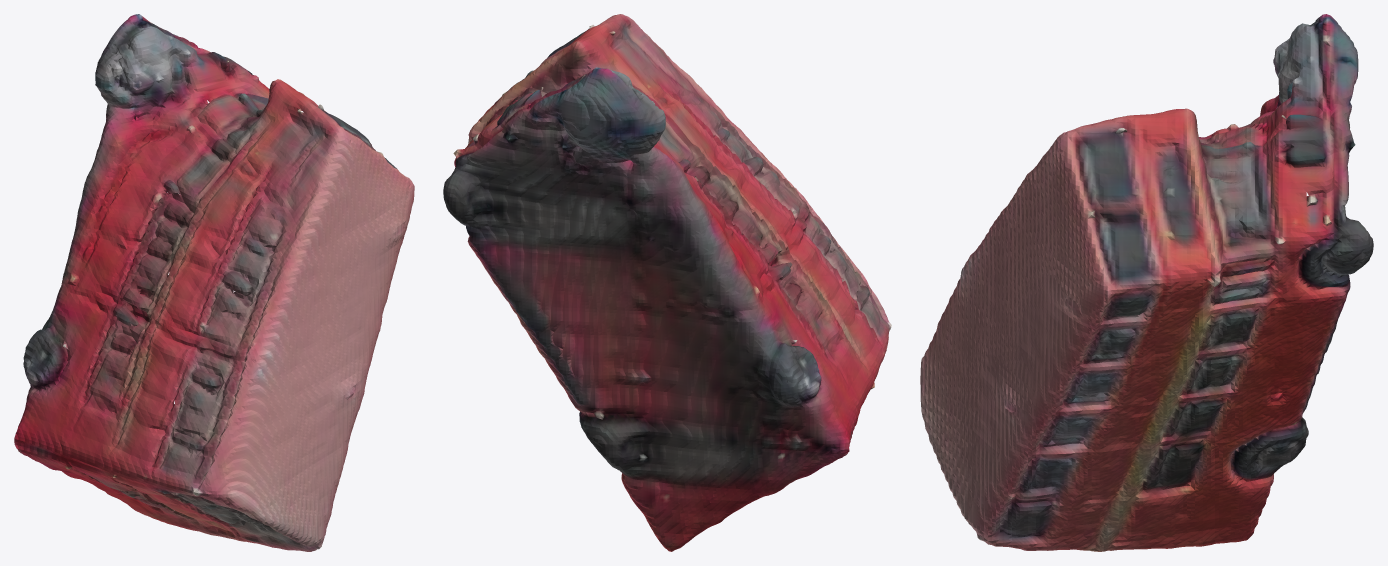
File: 000009_bus_double decker_double decker bus.glb
The picture shows the model from 3 angles, left to right: view 1: azimuth 30°, elevation 25°; view 2: azimuth 150°, elevation 25°; view 3: azimuth 270°, elevation 25°; orthographic projection. The views are drawn at different scales.
Visible parts, largest first — view 1: world; view 2: world; view 3: world.
Boxes of the visible parts, x1,y1,x2,y2 form: world: [14, 14, 414, 551]; world: [443, 14, 891, 551]; world: [920, 14, 1373, 551].
Size of the model in its own units: 0.8278 by 1.02 by 0.7766.
